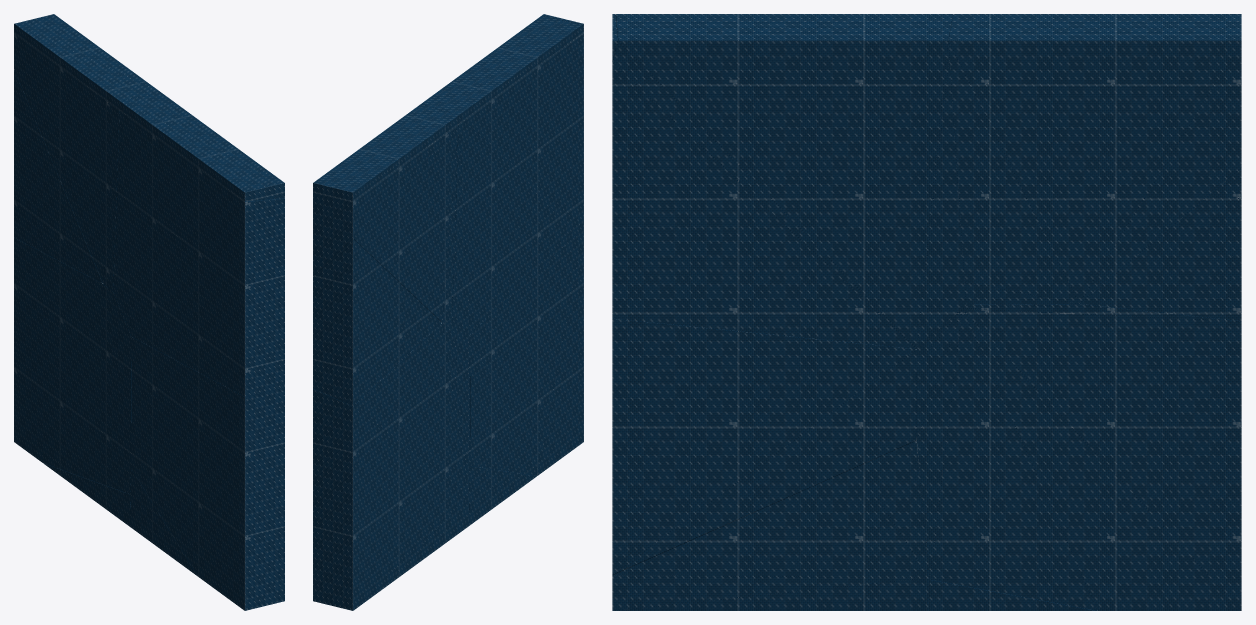
The model's file is WallFracture.fbx.
3 renders of one model, left to right at view 1: azimuth 30°, elevation 25°; view 2: azimuth 150°, elevation 25°; view 3: azimuth 270°, elevation 25°, orthographic. The views are drawn at different scales.
Parts seen in each view (by area): view 1: Box037_cell.005, Box037_cell, Box037_cell.003, Box037_cell.007, Box037_cell.006, Box037_cell.001, Box037_cell.002, Box037_cell.004; view 2: Box037_cell.005, Box037_cell.003, Box037_cell, Box037_cell.007, Box037_cell.006, Box037_cell.001, Box037_cell.002; view 3: Box037_cell.005, Box037_cell.003, Box037_cell.007, Box037_cell, Box037_cell.001, Box037_cell.006, Box037_cell.002.
Part boxes in pixels (box(x1,y1,x2,y2)): Box037_cell.005: box(113, 93, 284, 396); Box037_cell: box(131, 336, 284, 610); Box037_cell.003: box(14, 238, 131, 493); Box037_cell.007: box(14, 14, 161, 290); Box037_cell.006: box(14, 70, 102, 283); Box037_cell.001: box(130, 469, 284, 604); Box037_cell.002: box(43, 463, 130, 526); Box037_cell.004: box(243, 181, 284, 201); Box037_cell.005: box(421, 15, 583, 333); Box037_cell.003: box(313, 315, 470, 610); Box037_cell: box(470, 228, 583, 475); Box037_cell.007: box(313, 104, 458, 322); Box037_cell.006: box(313, 238, 441, 406); Box037_cell.001: box(469, 466, 536, 525); Box037_cell.002: box(382, 494, 469, 589); Box037_cell.005: box(612, 14, 966, 348); Box037_cell.003: box(917, 304, 1241, 610); Box037_cell.007: box(948, 14, 1241, 304); Box037_cell: box(612, 318, 919, 574); Box037_cell.001: box(612, 440, 929, 610); Box037_cell.006: box(1079, 168, 1241, 320); Box037_cell.002: box(928, 566, 1096, 610).
Bounding box in the file's own units: 50 × 500 × 500.
1 material, 1 textured.
